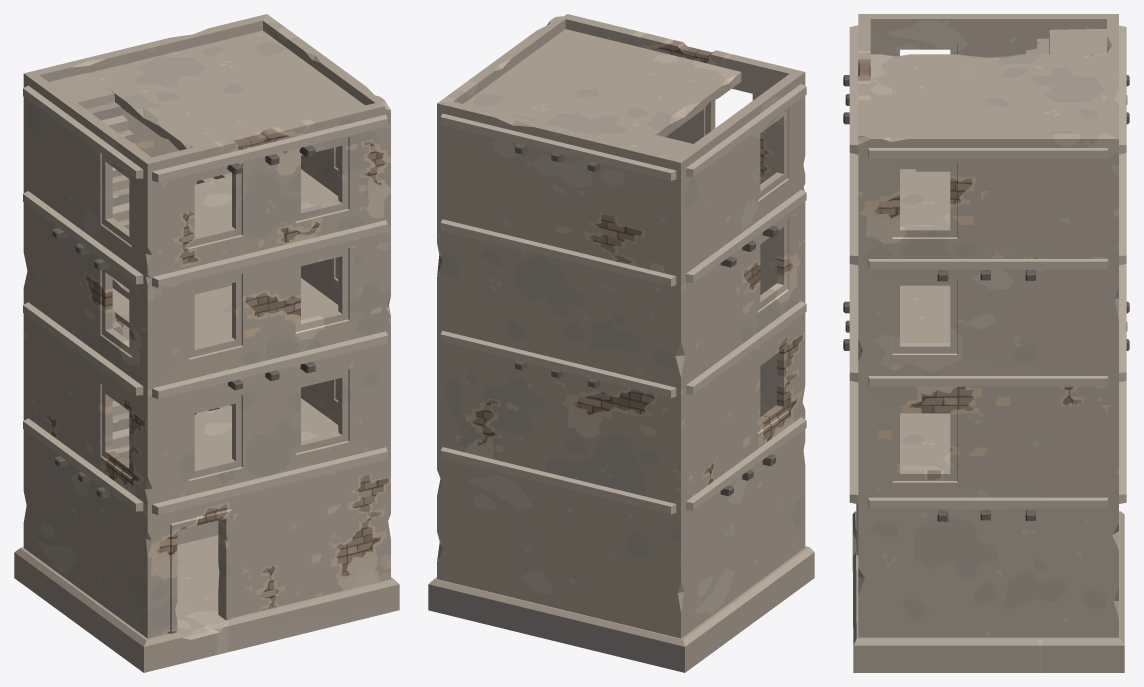
Rendered from SM_Bld_Village_House_04.fbx.
3 renders of one model, left to right at view 1: azimuth 30°, elevation 25°; view 2: azimuth 150°, elevation 25°; view 3: azimuth 270°, elevation 25°, orthographic. The views are drawn at different scales.
Parts seen in each view (by area): view 1: SM_Bld_Village_House_04; view 2: SM_Bld_Village_House_04; view 3: SM_Bld_Village_House_04.
Part boxes in pixels (<box>): SM_Bld_Village_House_04: <box>14,14,399,672</box>; SM_Bld_Village_House_04: <box>428,14,814,672</box>; SM_Bld_Village_House_04: <box>843,14,1129,672</box>.
Bounding box in the file's own units: 663 × 1211 × 592.
